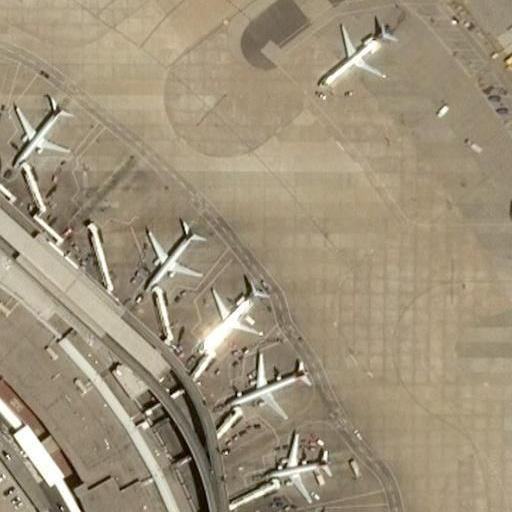Aircraft: (231, 345, 315, 418), (314, 18, 395, 93), (134, 212, 205, 290), (257, 430, 329, 503), (201, 277, 270, 350), (6, 93, 73, 168), (279, 504, 367, 512)
